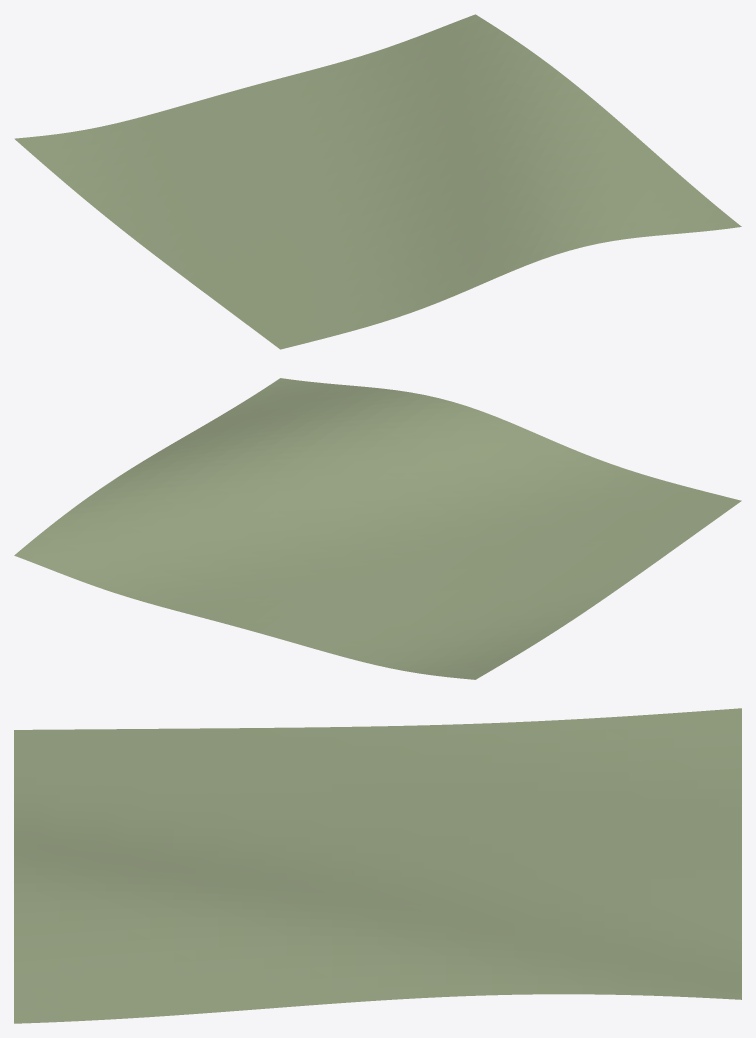
File: desert-3-8.glb
3 renders of one model, top to bottom at view 1: azimuth 30°, elevation 25°; view 2: azimuth 150°, elevation 25°; view 3: azimuth 270°, elevation 25°, orthographic. The views are drawn at different scales.
Visible parts, largest first — view 1: desert-3-8; view 2: desert-3-8; view 3: desert-3-8.
Part boxes in pixels (box(x1,y1,x2,y2)): desert-3-8: box(14, 14, 741, 349); desert-3-8: box(14, 378, 741, 679); desert-3-8: box(14, 708, 741, 1023).
Bounding box in the file's own units: 512 × 34.4 × 512.
